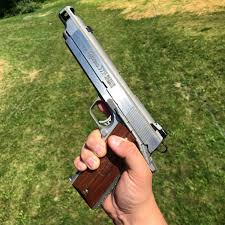gun: (57, 4, 170, 212)
